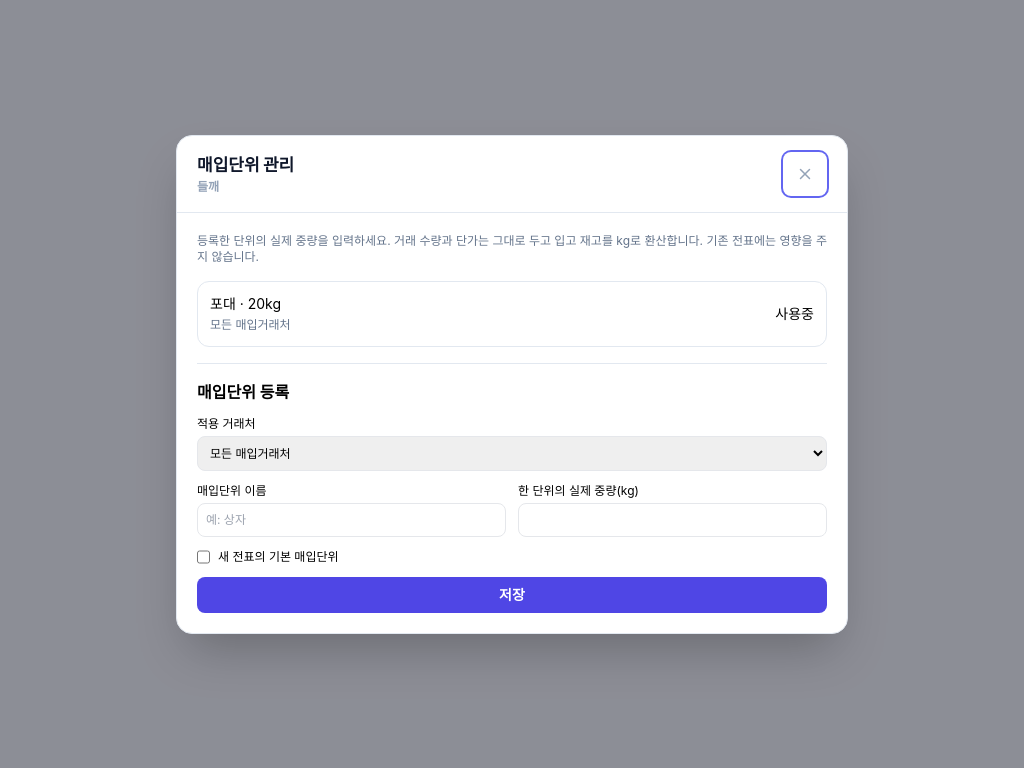
Test: 단위 예시는 중립적으로 안내하고 저장된 단위 이름은 바꾸지 않는다
Check: the text "등록한 단위의 실제 중량" is shown, box [197,232,827,264]
Click the button "포대 · 20kg". click: x=250, y=324
box: [197,280,827,346]
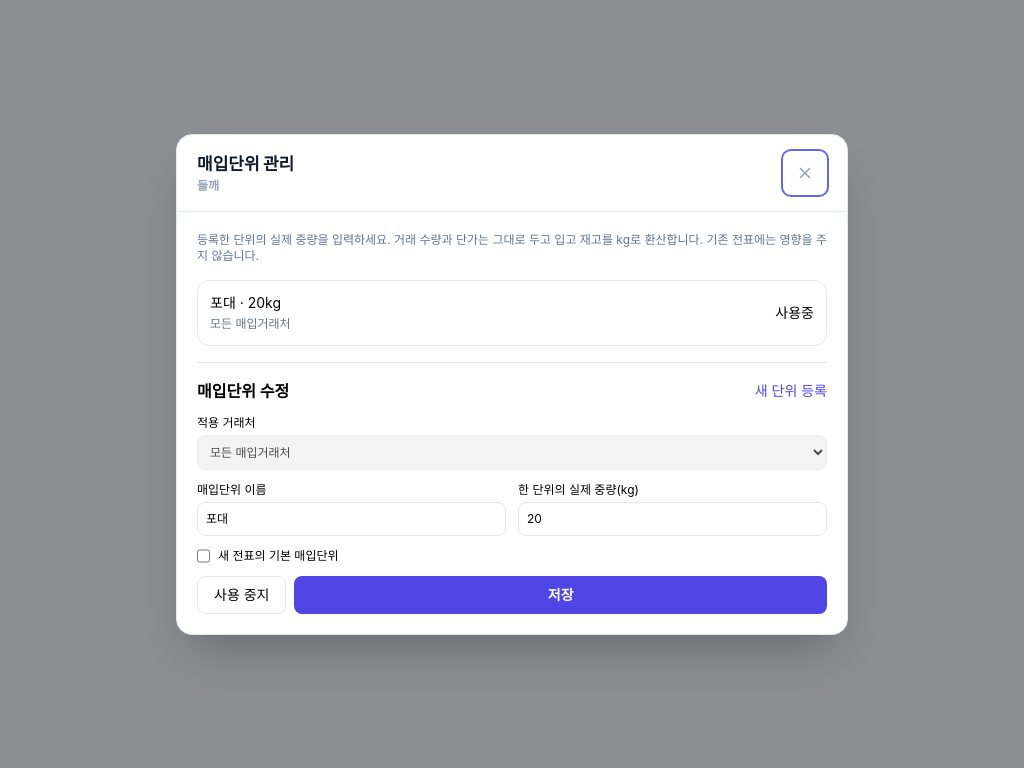
Check: the field labelled "매입단위 이름" holds "포대", box [197,502,506,536]
